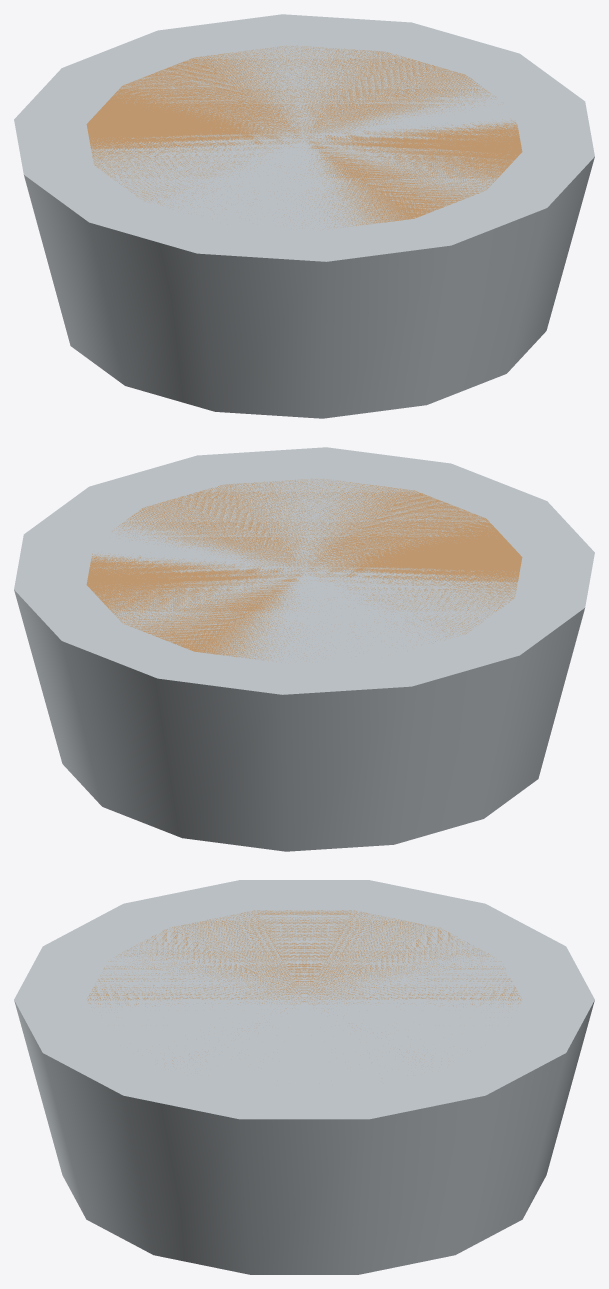
The model's file is pet_bowl.glb.
3 views of the same model, one above another, from view 1: azimuth 30°, elevation 25°; view 2: azimuth 150°, elevation 25°; view 3: azimuth 270°, elevation 25° (orthographic).
Visible parts, largest first — view 1: pet_bowl; view 2: pet_bowl; view 3: pet_bowl.
Part boxes in pixels (x1,y1,x2,y2): pet_bowl: [14, 14, 594, 418]; pet_bowl: [14, 447, 594, 851]; pet_bowl: [14, 880, 594, 1274].
Bounding box in the file's own units: 11.7 × 4 × 12.
